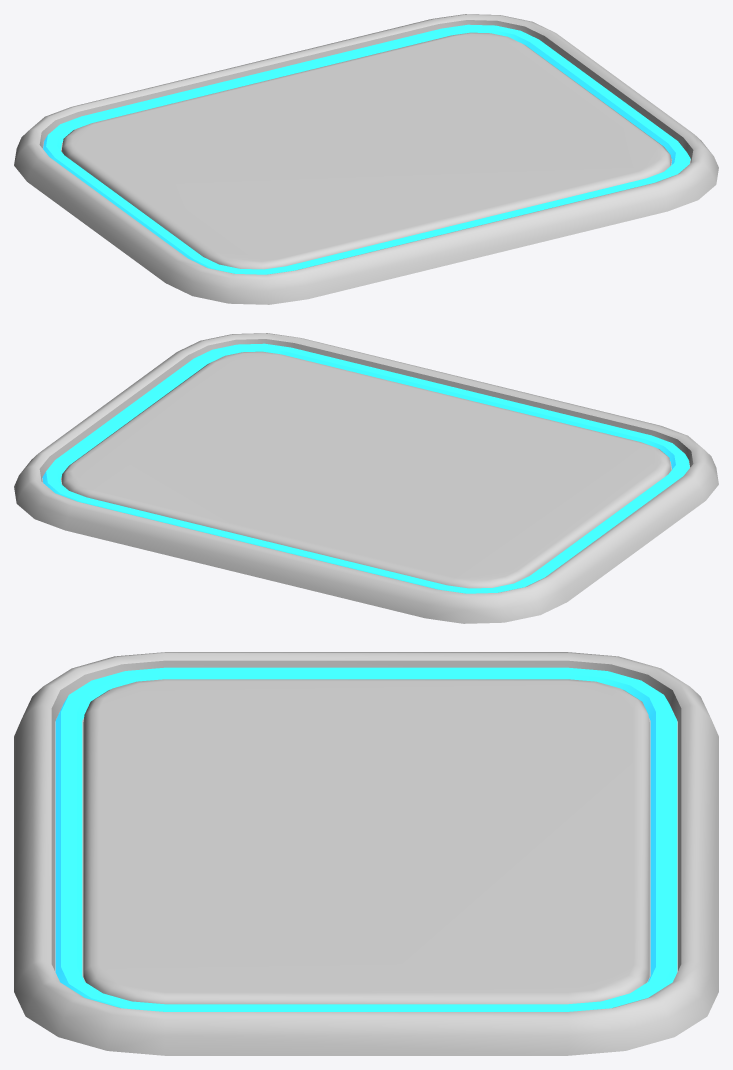
File: Hub_CleanPad.fbx
3 views of the same model, one above another, from view 1: azimuth 30°, elevation 25°; view 2: azimuth 150°, elevation 25°; view 3: azimuth 270°, elevation 25° (orthographic). The views are drawn at different scales.
Visible parts, largest first — view 1: CleanPad_Tint, CleanPad_Body, CleanPad_Glow; view 2: CleanPad_Tint, CleanPad_Body, CleanPad_Glow; view 3: CleanPad_Tint, CleanPad_Body, CleanPad_Glow.
Part boxes in pixels (box(x1,y1,x2,y2)): CleanPad_Tint: box(61, 32, 671, 269); CleanPad_Body: box(14, 14, 718, 304); CleanPad_Glow: box(43, 24, 690, 274); CleanPad_Tint: box(61, 351, 671, 588); CleanPad_Body: box(14, 333, 718, 623); CleanPad_Glow: box(42, 343, 689, 593); CleanPad_Tint: box(83, 679, 649, 1004); CleanPad_Body: box(14, 652, 718, 1055); CleanPad_Glow: box(55, 667, 677, 1011).
Size of the model in its own units: 13.5 by 0.52 by 10.5.
